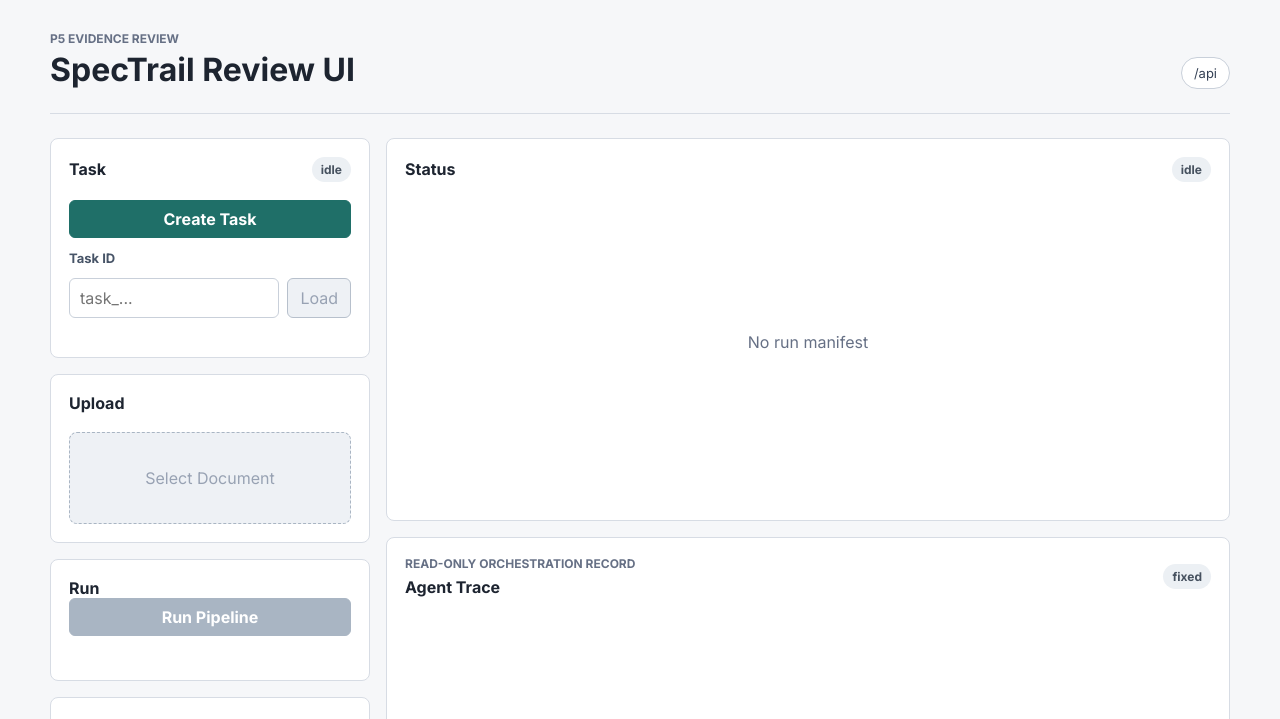
App pipeline run reconciliation › reconciles an ordinary pipeline rerun failure without retaining stale Evidence
In the field labelled "Task ID": x=174, y=298 [69, 278, 279, 318], type "task-1"
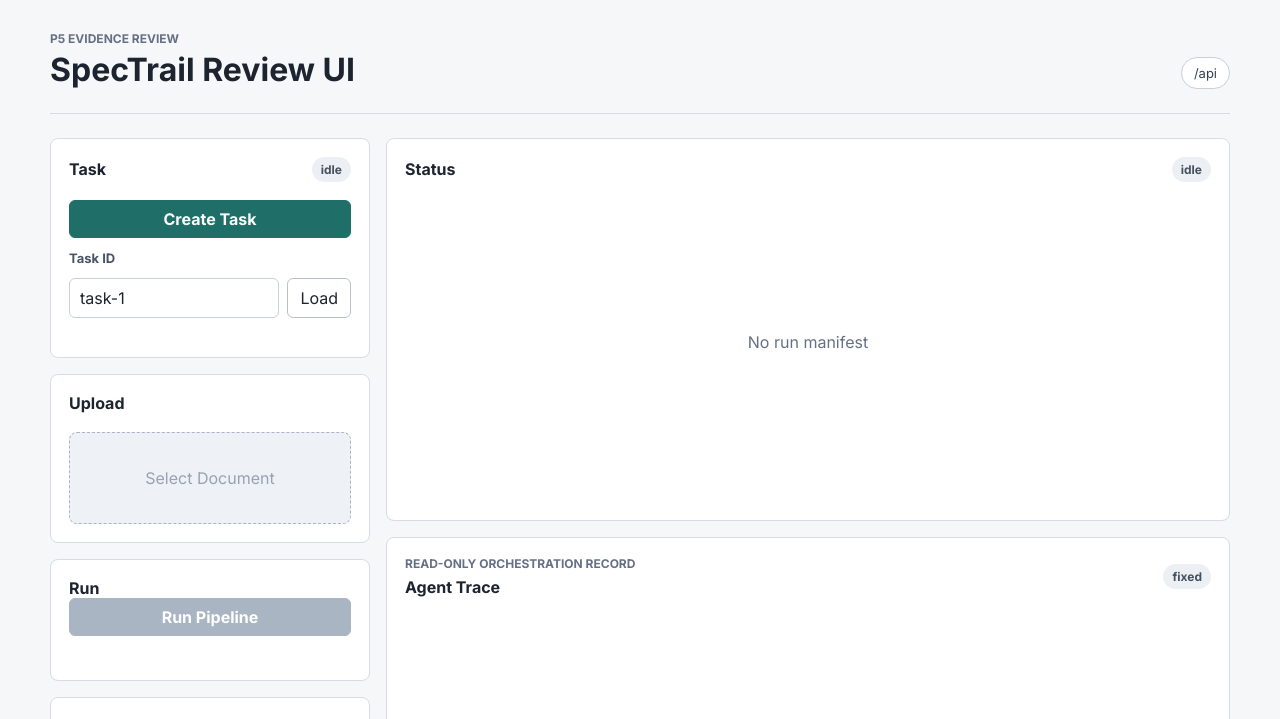
Click the button "Load": x=319, y=298 [287, 278, 351, 318]
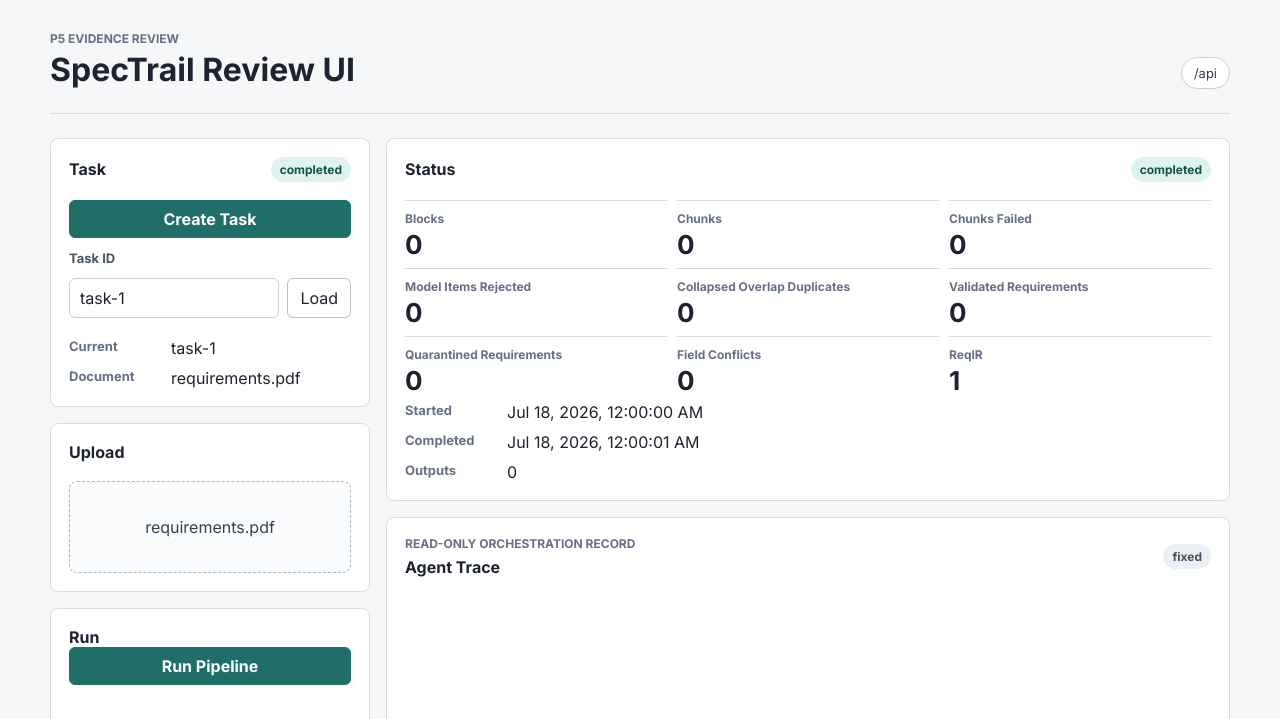
Click the button "Run Pipeline": x=210, y=666 [69, 647, 351, 685]
(page scrolled)
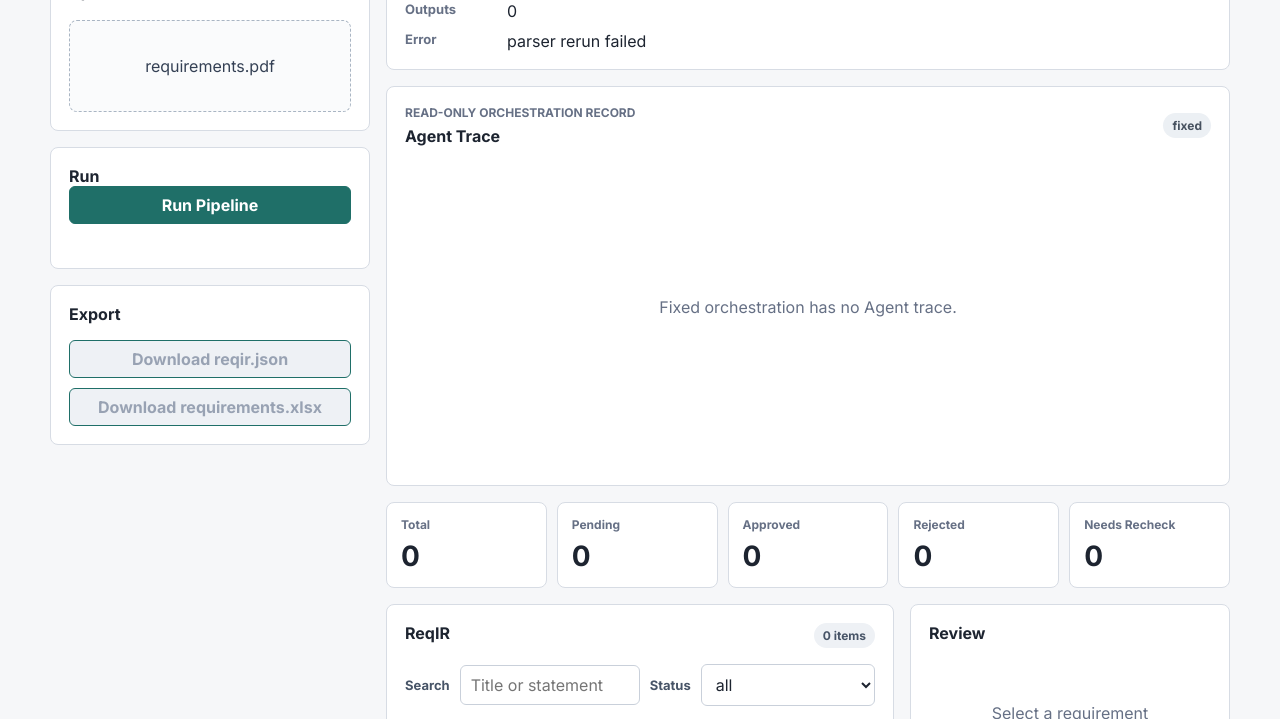
Expected: the button "Download reqir.json" is disabled, [69, 340, 351, 378]
